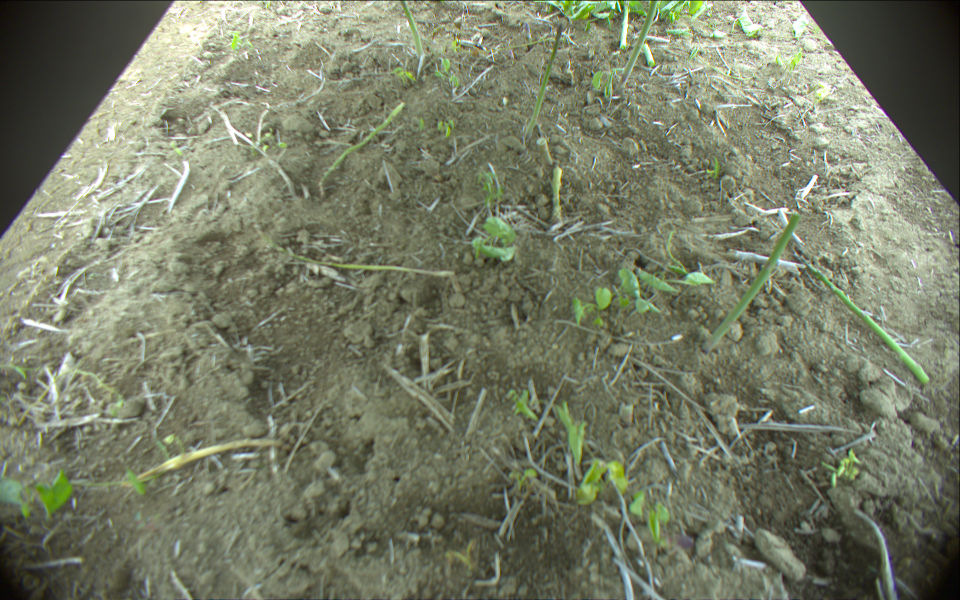aspa: (802, 255, 932, 385), (701, 212, 800, 355), (315, 99, 405, 189), (271, 248, 455, 279), (525, 15, 564, 138), (617, 1, 655, 90), (400, 1, 429, 59), (550, 164, 568, 227), (536, 137, 552, 174), (619, 1, 630, 48), (641, 41, 656, 65)
